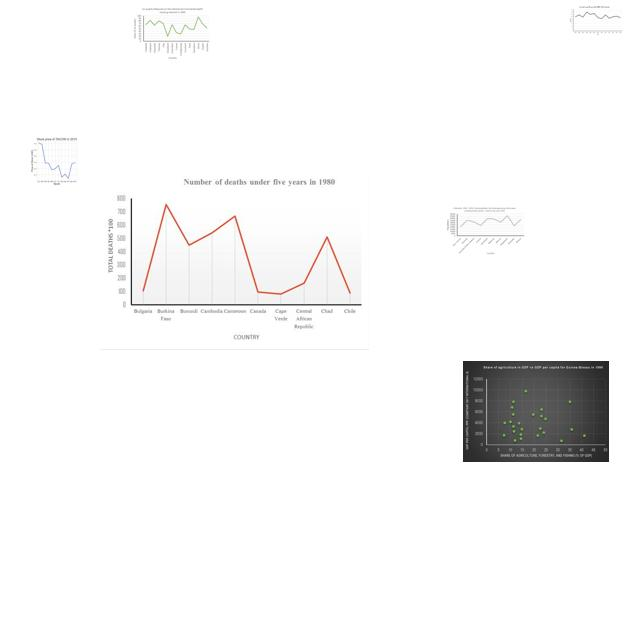Graph: (100, 174, 369, 350), (463, 361, 609, 462), (132, 6, 211, 61), (444, 206, 526, 255), (22, 135, 90, 186), (569, 6, 623, 36)
